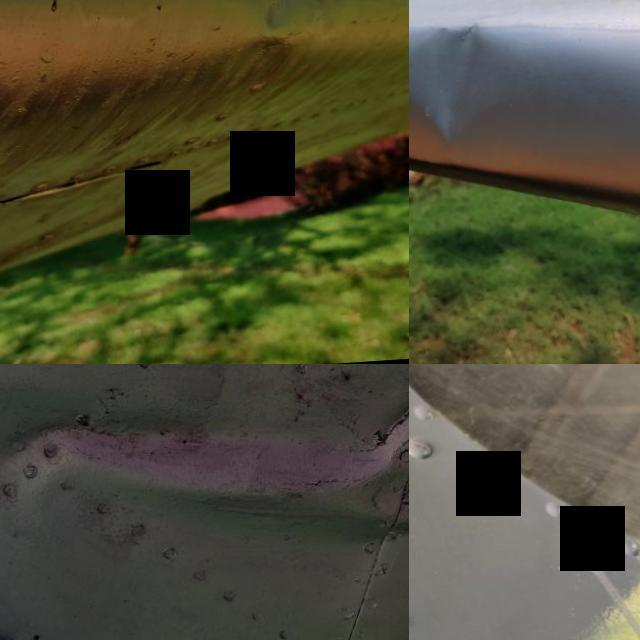Crack: (366, 401, 409, 459)
Dent: (0, 364, 409, 600), (409, 12, 519, 163), (239, 0, 351, 59)
